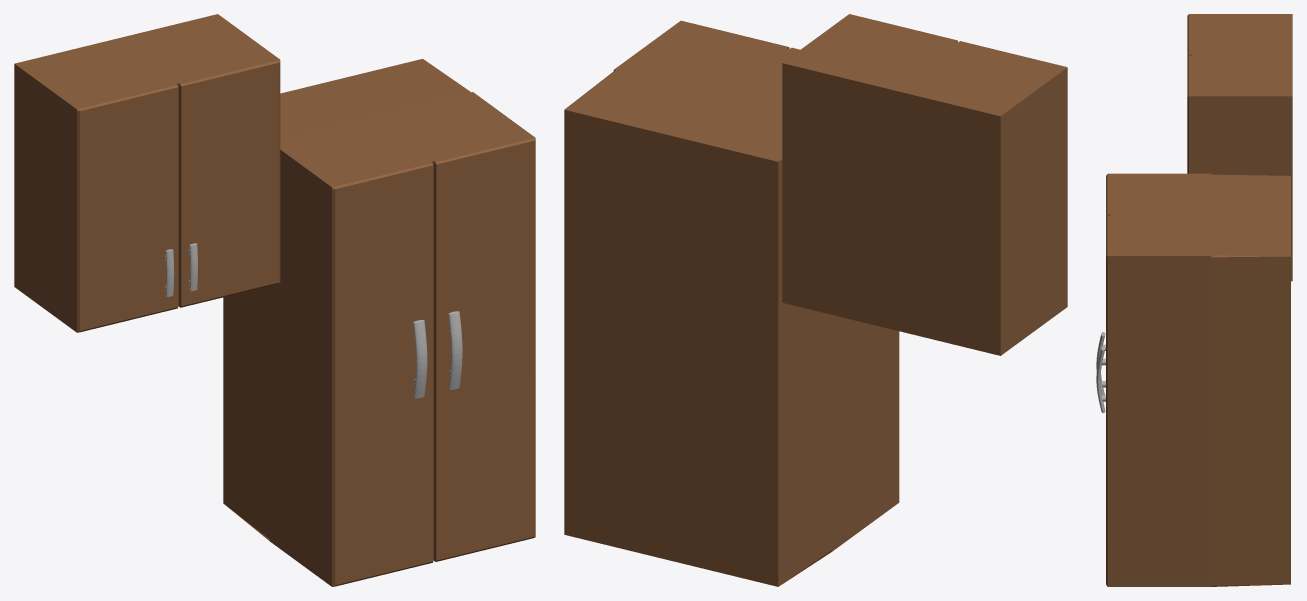
Rendered from cupboard.fbx.
The picture shows the model from 3 angles, left to right: view 1: azimuth 30°, elevation 25°; view 2: azimuth 150°, elevation 25°; view 3: azimuth 270°, elevation 25°; orthographic projection. The views are drawn at different scales.
Visible parts, largest first — view 1: Cupboard, HighCupboard; view 2: Cupboard, HighCupboard; view 3: Cupboard, HighCupboard.
Part boxes in pixels (bbox=[...]): Cupboard: bbox=[223, 59, 535, 586]; HighCupboard: bbox=[14, 14, 280, 332]; Cupboard: bbox=[564, 20, 899, 586]; HighCupboard: bbox=[782, 14, 1067, 355]; Cupboard: bbox=[1096, 173, 1290, 586]; HighCupboard: bbox=[1187, 14, 1292, 281].
Size of the model in its own units: 904 by 1038 by 453.
